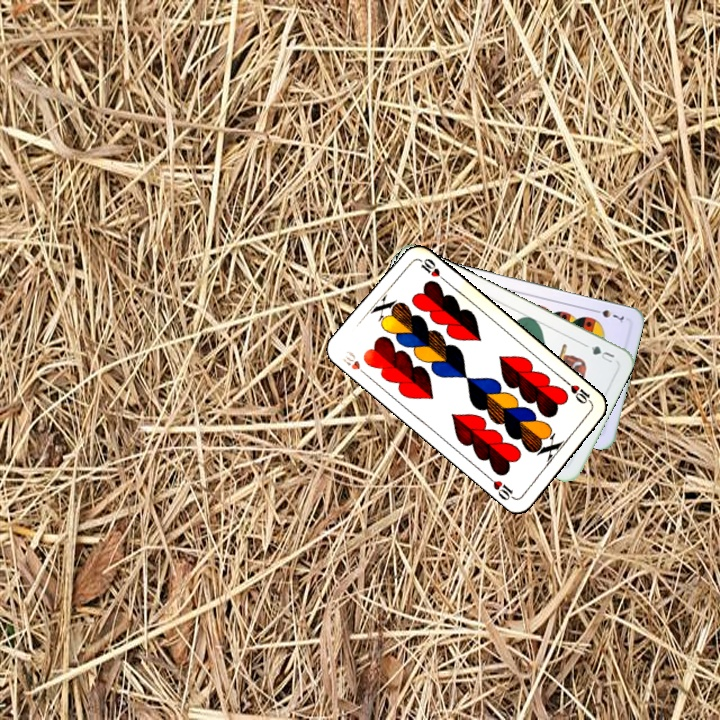GU: (587, 342, 617, 365)
H10: (338, 347, 371, 380), (562, 376, 595, 407)
S7: (589, 305, 627, 325)
